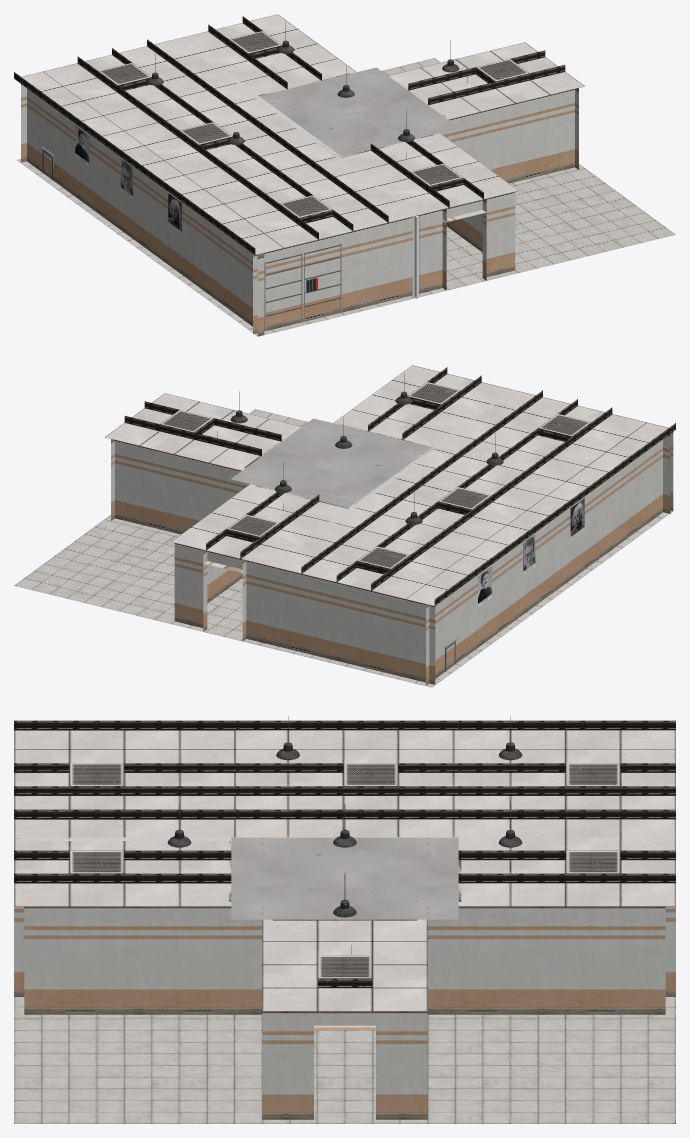
File: 5ROOM.fbx
3 renders of one model, top to bottom at view 1: azimuth 30°, elevation 25°; view 2: azimuth 150°, elevation 25°; view 3: azimuth 270°, elevation 25°, orthographic. The views are drawn at different scales.
Parts seen in each view (by area): view 1: _4Room; view 2: _4Room; view 3: _4Room.
Part boxes in pixels (left/top/right/bottom): _4Room: left=14, top=14, right=675, bottom=336; _4Room: left=14, top=365, right=675, bottom=687; _4Room: left=14, top=716, right=675, bottom=1123.
Bounding box in the file's own units: 2039 × 613 × 2028.
Materials: 14 (13 with a texture image).
